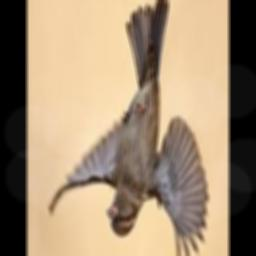Sparrow: (49, 0, 208, 256)
